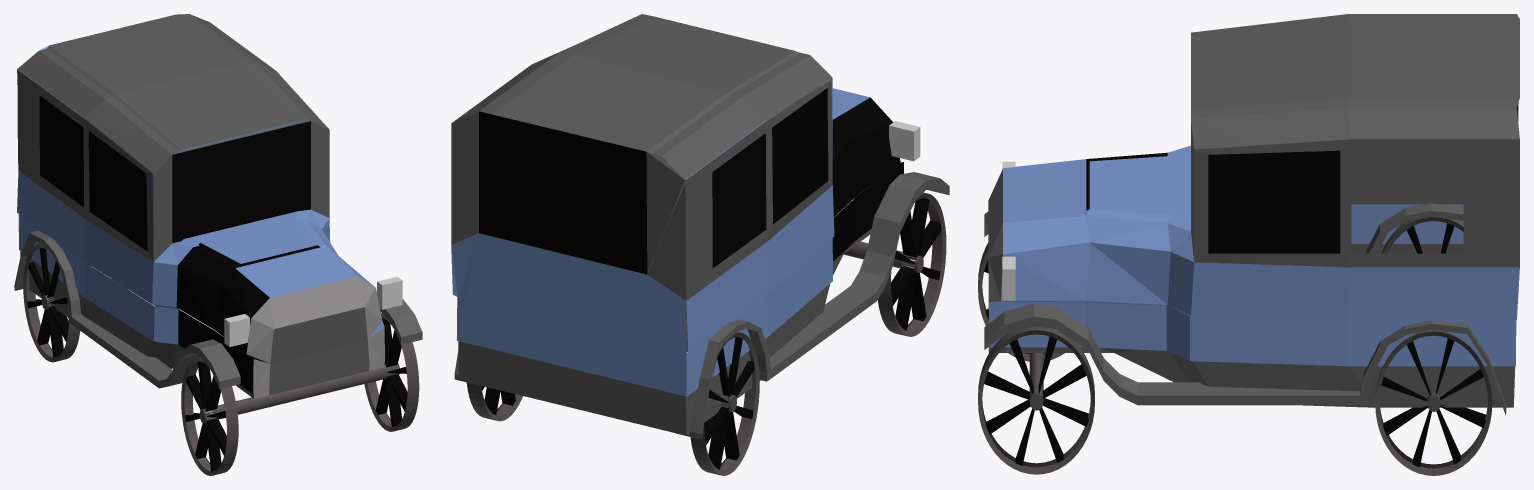
The model's file is austin-seven.dae.
3 renders of one model, left to right at view 1: azimuth 30°, elevation 25°; view 2: azimuth 150°, elevation 25°; view 3: azimuth 270°, elevation 25°, orthographic. The views are drawn at different scales.
Visible parts, largest first — view 1: Cube_003, Cylinder_008, Cube_002, Cylinder, Cube_001; view 2: Cube_003, Cube_002, Cylinder, Cylinder_008, Cube_001; view 3: Cube_003, Cube_002, Cylinder_008, Cylinder, Cube_001.
Boxes of the visible parts, bbox=[...] form: Cube_003: bbox=[17, 14, 384, 398]; Cylinder_008: bbox=[181, 312, 419, 475]; Cube_002: bbox=[14, 231, 422, 388]; Cylinder: bbox=[23, 243, 127, 362]; Cube_001: bbox=[224, 276, 402, 346]; Cube_003: bbox=[451, 14, 903, 435]; Cube_002: bbox=[454, 172, 949, 439]; Cylinder: bbox=[466, 331, 759, 475]; Cylinder_008: bbox=[843, 192, 946, 336]; Cube_001: bbox=[889, 121, 920, 161]; Cube_003: bbox=[988, 14, 1519, 407]; Cube_002: bbox=[984, 203, 1506, 415]; Cylinder_008: bbox=[978, 243, 1094, 474]; Cylinder: bbox=[1375, 217, 1492, 475]; Cube_001: bbox=[1002, 161, 1015, 300].
Bounding box in the file's own units: 0.95 × 1.72 × 1.25.
